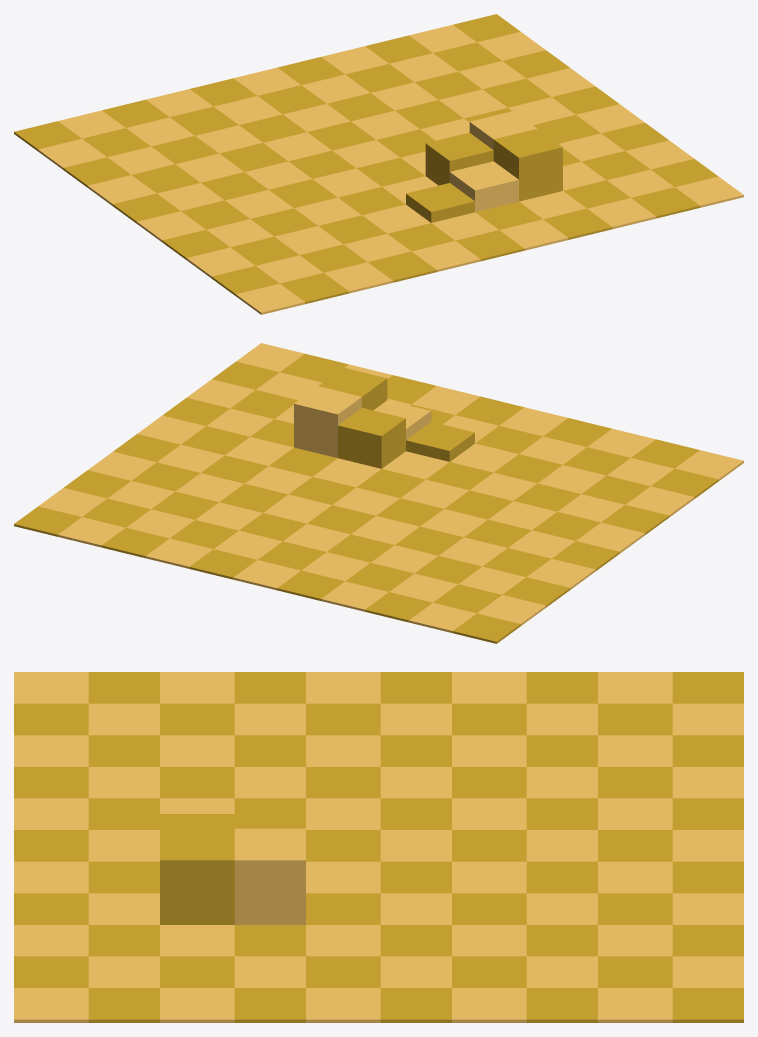
File: map.obj
The picture shows the model from 3 angles, top to bottom: view 1: azimuth 30°, elevation 25°; view 2: azimuth 150°, elevation 25°; view 3: azimuth 270°, elevation 25°; orthographic projection. The views are drawn at different scales.
Size of the model in its own units: 23.1 by 2.1 by 20.5.
1 material, 1 textured.
